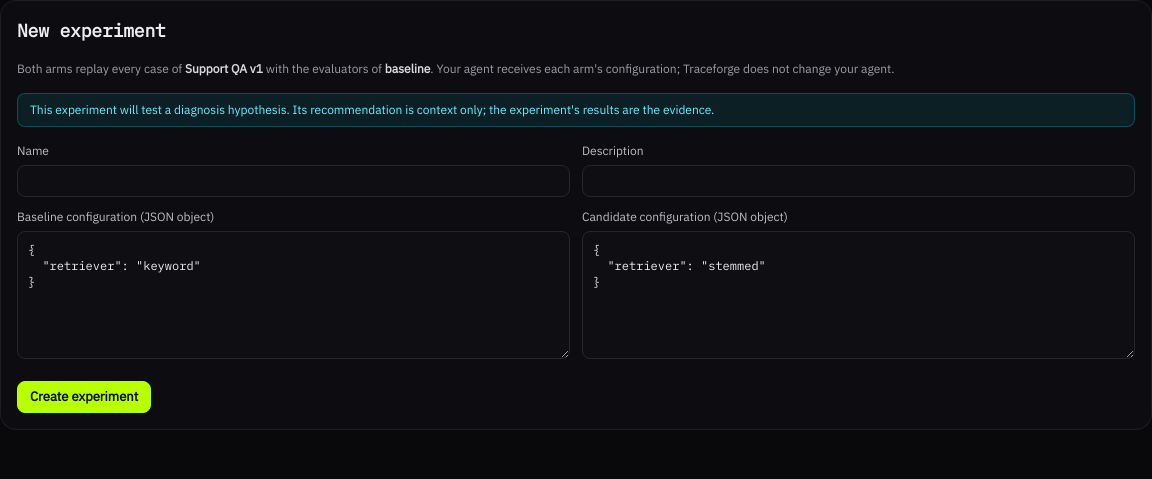
Test: NewExperimentPage › creates an experiment from a completed run with parsed configurations
The width and height of the screenshot is (1152, 479).
Later steps or results of the test are not shown.
Type "stemmed retriever" into the field labelled "Name" at (294, 181), box [17,165,570,197]
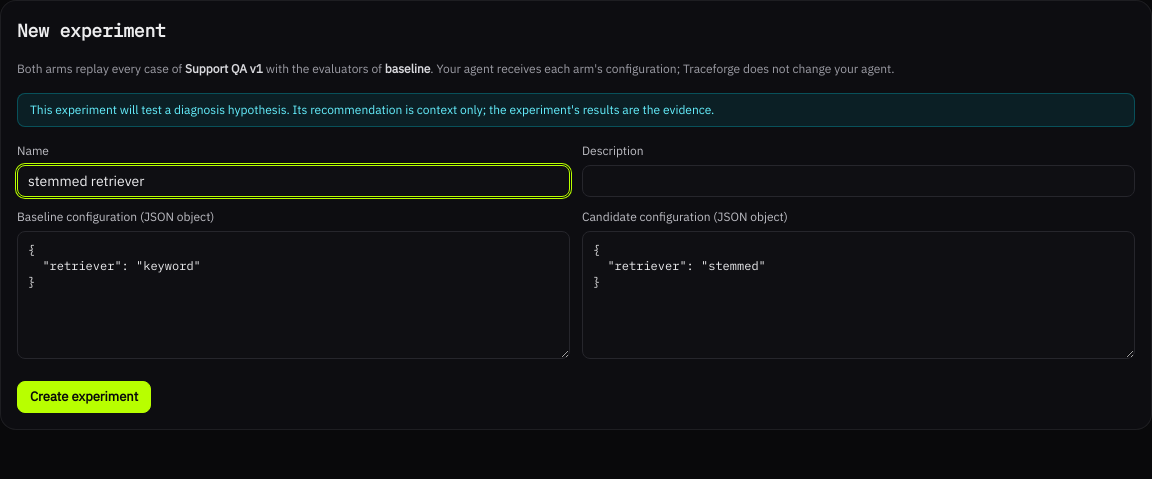
Replace the text in the text box labelled "Candidate configuration (JSON object)" with "not json" at (858, 295), box [582,231,1135,359]
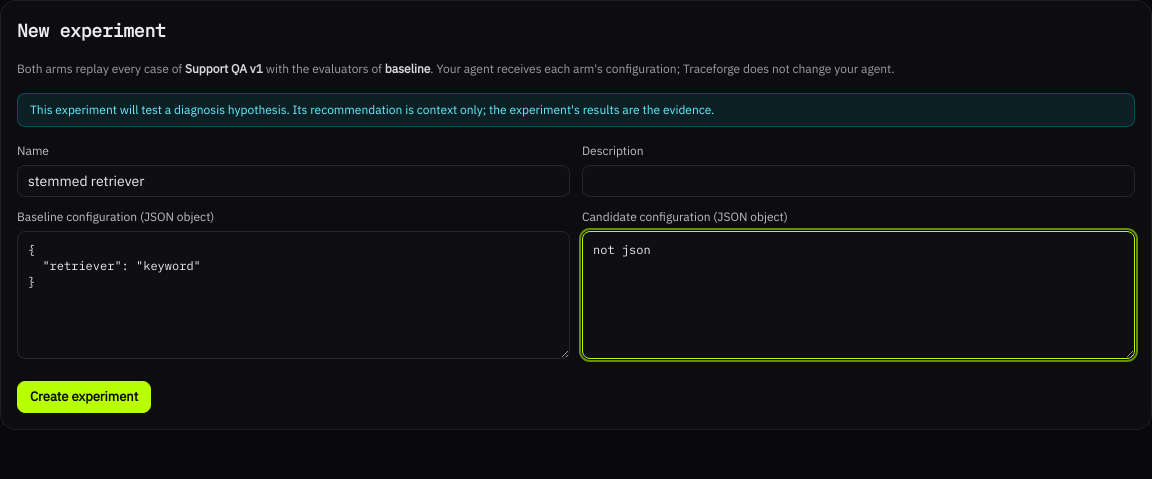
Click the button "Create experiment" at (84, 397), box [17,381,151,413]
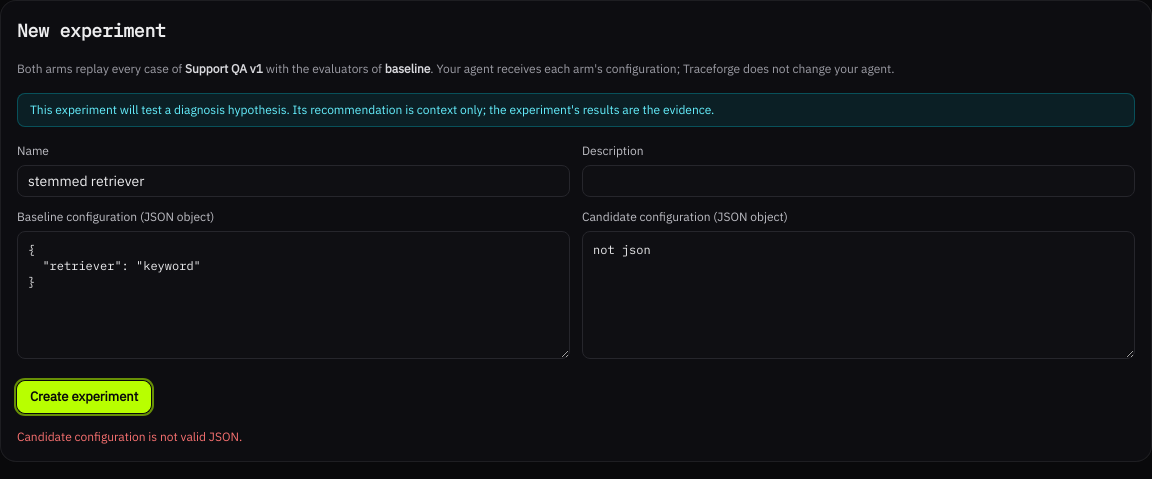
Now the message reads "Candidate configuration is not valid JSON.", box [17,429,242,444]
